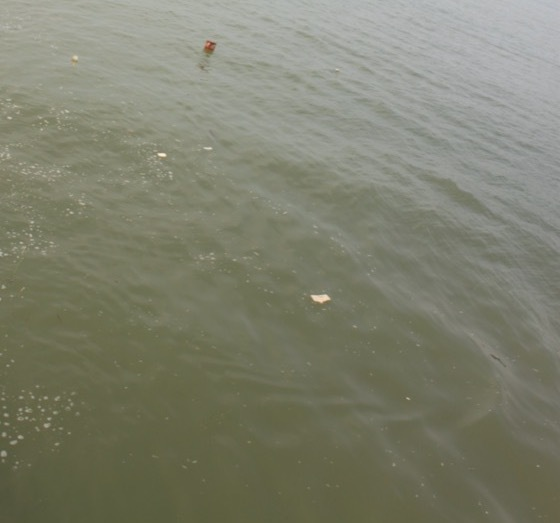plastic: (300, 282, 339, 315), (196, 34, 221, 60), (148, 146, 176, 166), (64, 50, 86, 70), (328, 60, 346, 78), (198, 142, 220, 155)
